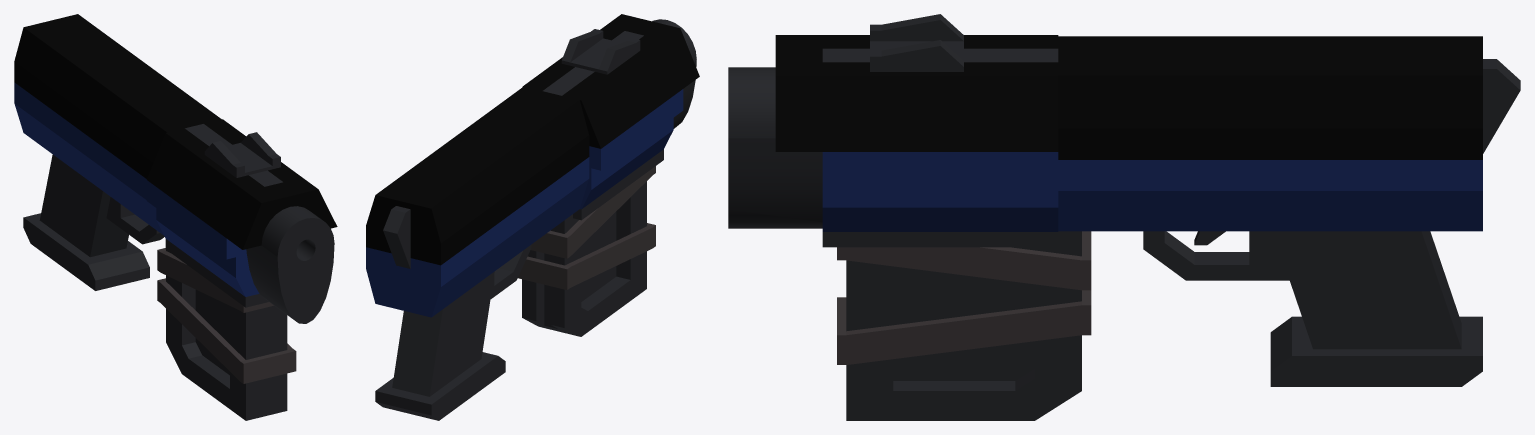
The model's file is gun_11.fbx.
3 renders of one model, left to right at view 1: azimuth 30°, elevation 25°; view 2: azimuth 150°, elevation 25°; view 3: azimuth 270°, elevation 25°, orthographic. The views are drawn at different scales.
Parts seen in each view (by area): view 1: mergedBlocks; view 2: mergedBlocks; view 3: mergedBlocks.
Boxes of the visible parts, box(x1,y1,x2,y2) form: mergedBlocks: box(14, 14, 337, 420); mergedBlocks: box(366, 14, 699, 420); mergedBlocks: box(728, 14, 1520, 420).
Size of the model in its own units: 1.03 by 2.64 by 5.04.
